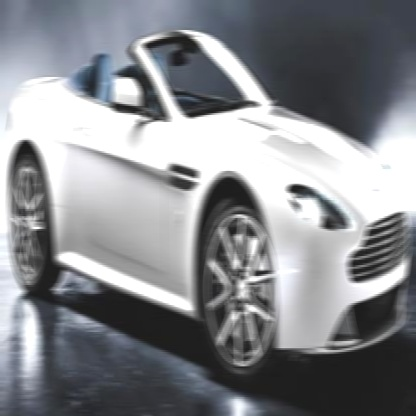Vehicle: (4, 9, 414, 382)
